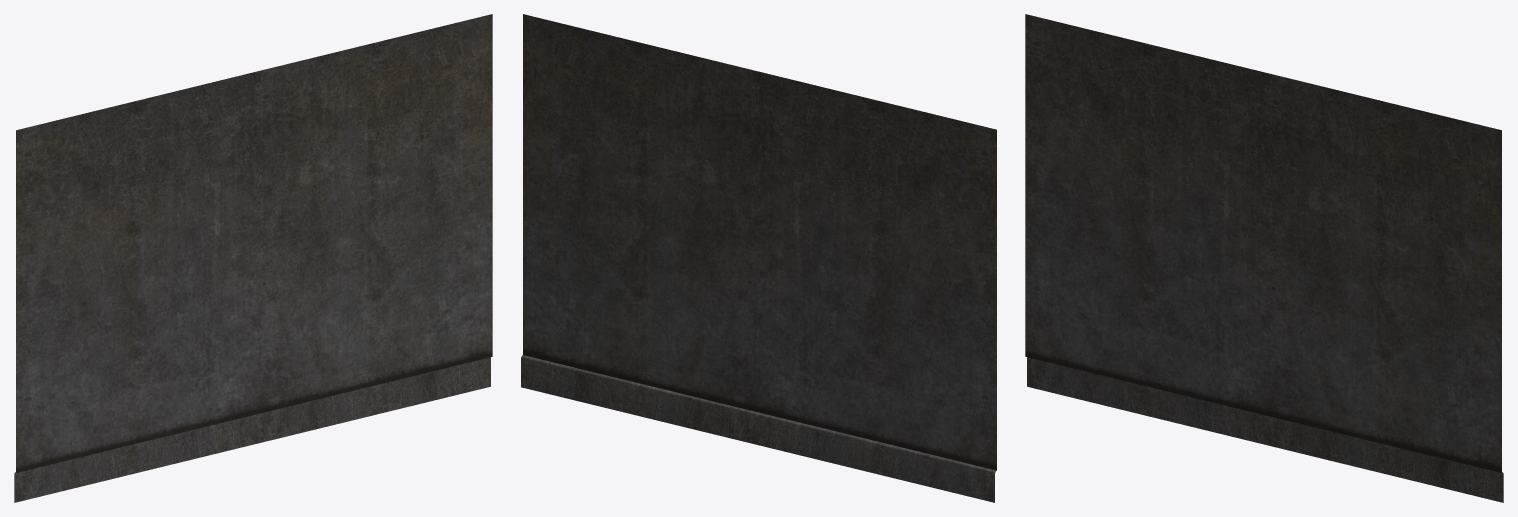
The model's file is Basement_Corridor_D_Wall_4m.glb.
3 renders of one model, left to right at view 1: azimuth 30°, elevation 25°; view 2: azimuth 150°, elevation 25°; view 3: azimuth 330°, elevation 25°, orthographic.
Visible parts, largest first — view 1: Basement_Corridor_D_Wall_4m; view 2: Basement_Corridor_D_Wall_4m; view 3: Basement_Corridor_D_Wall_4m.
Part boxes in pixels (x1,y1,x2,y2): Basement_Corridor_D_Wall_4m: [14, 14, 492, 502]; Basement_Corridor_D_Wall_4m: [521, 14, 996, 502]; Basement_Corridor_D_Wall_4m: [1025, 14, 1503, 502].
Size of the model in its own units: 4 by 3 by 0.0256.
2 materials, 2 textured.
